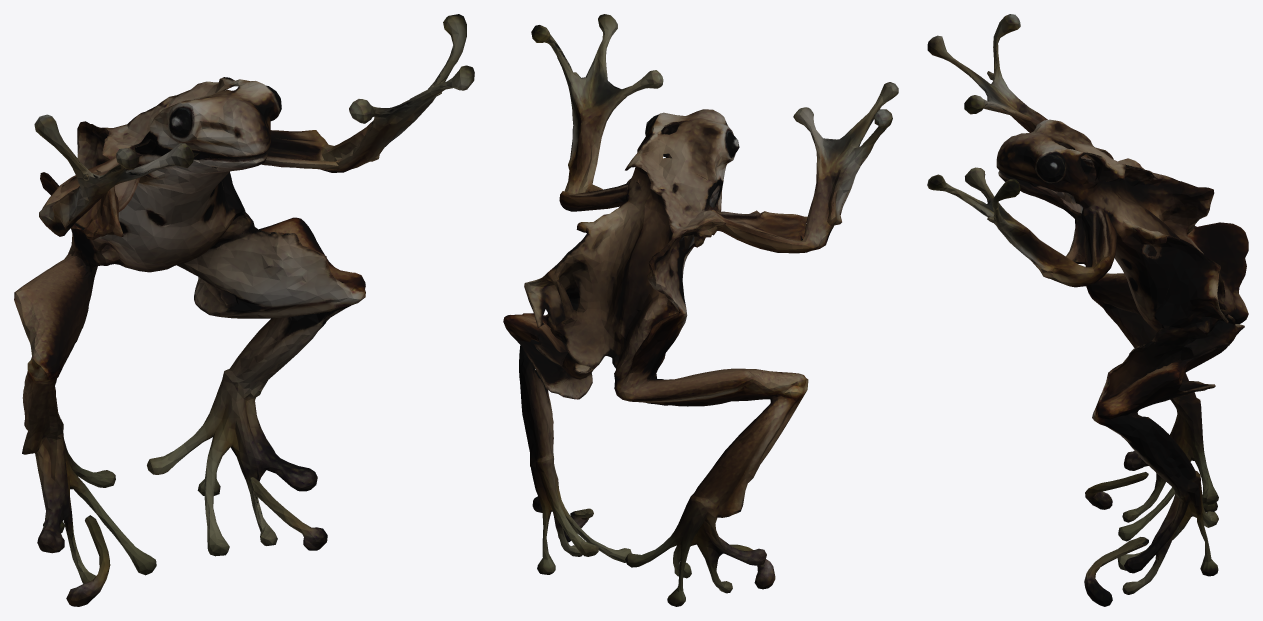
3 renders of one model, left to right at view 1: azimuth 30°, elevation 25°; view 2: azimuth 150°, elevation 25°; view 3: azimuth 270°, elevation 25°, orthographic. The views are drawn at different scales.
Parts seen in each view (by area): view 1: world; view 2: world; view 3: world.
Boxes of the visible parts, left/top/right/bottom form: world: left=14, top=14, right=474, bottom=606; world: left=503, top=14, right=898, bottom=606; world: left=927, top=14, right=1248, bottom=606.
Bounding box in the file's own units: 0.8101 × 1 × 0.6344.
1 material, 1 textured.
